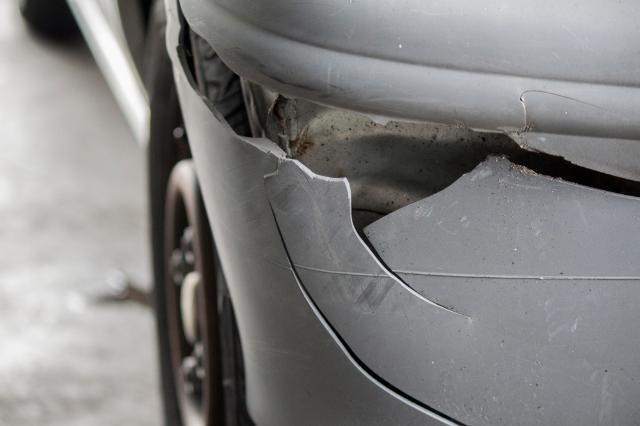crack: (176, 0, 640, 426)
